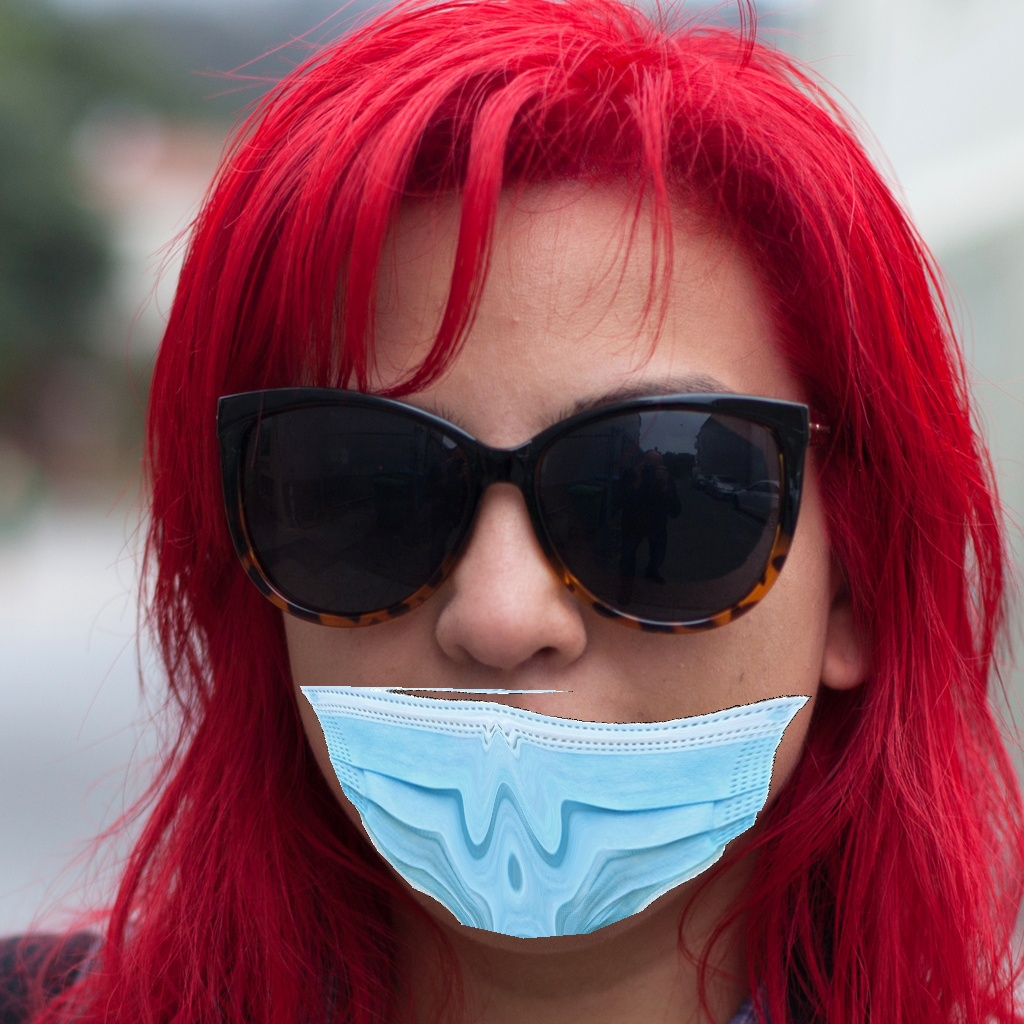mascarilla_mal_puesta: (64, 240, 907, 958)
